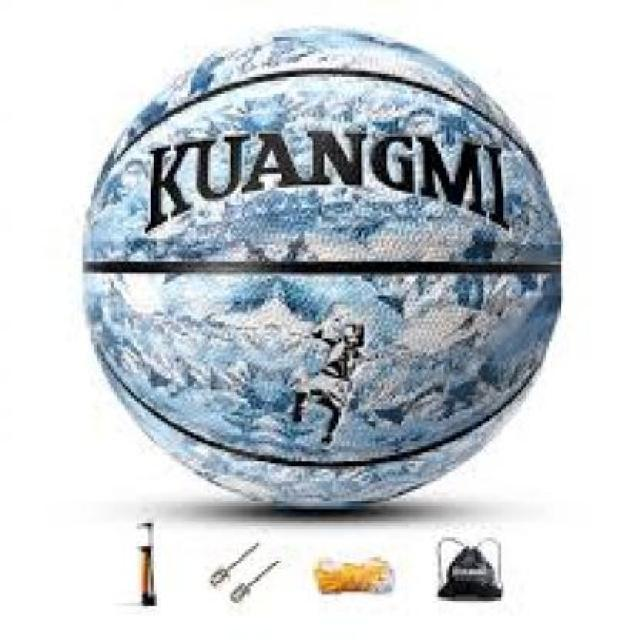basketball: (86, 29, 560, 508)
